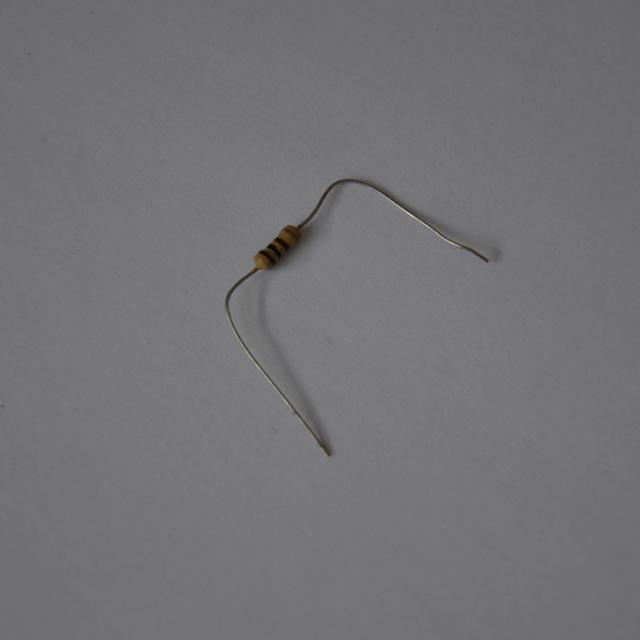Resistor Carbon-Film: (249, 218, 307, 272)
